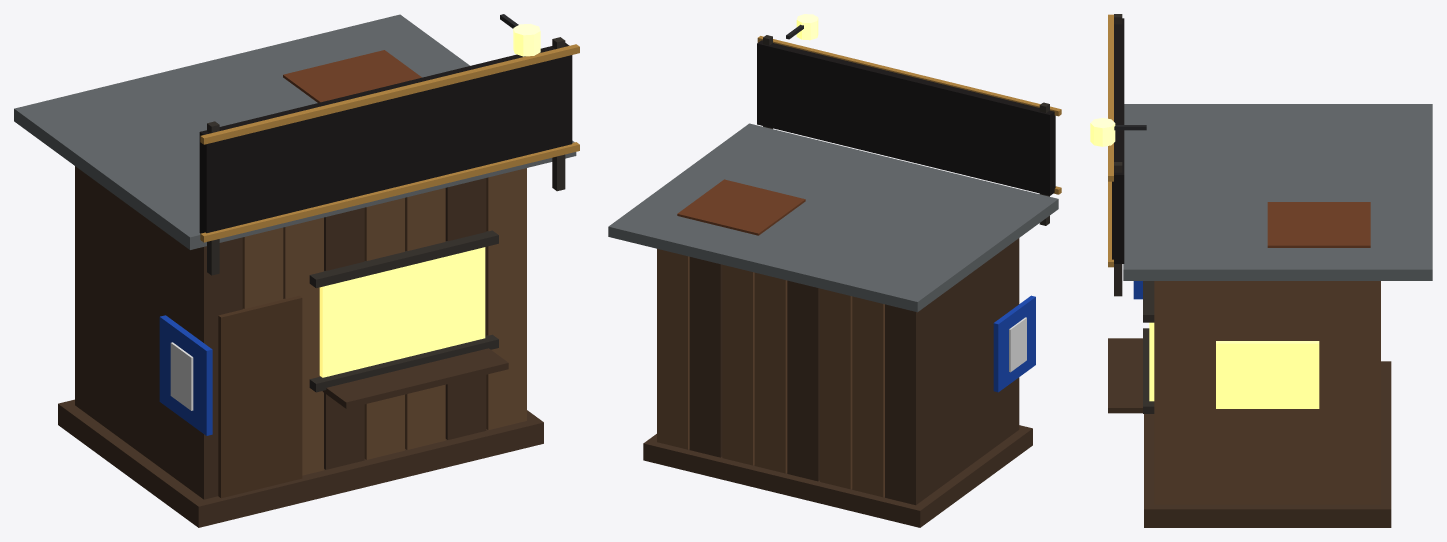
The model's file is parking_booth.glb.
3 renders of one model, left to right at view 1: azimuth 30°, elevation 25°; view 2: azimuth 150°, elevation 25°; view 3: azimuth 270°, elevation 25°, orthographic. The views are drawn at different scales.
Parts seen in each view (by area): view 1: parking_booth; view 2: parking_booth; view 3: parking_booth.
Boxes of the visible parts, bbox=[...] form: parking_booth: bbox=[14, 14, 579, 527]; parking_booth: bbox=[608, 14, 1061, 527]; parking_booth: bbox=[1090, 14, 1432, 527].
Bounding box in the file's own units: 3.8 × 4.15 × 3.32.
